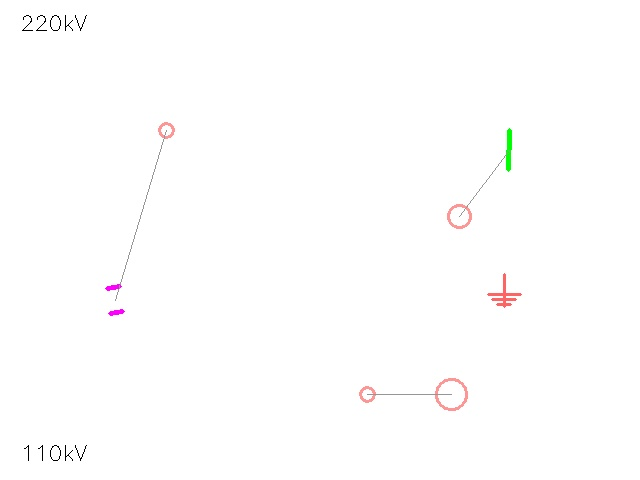busbar: (485, 126, 533, 174)
capacitor: (94, 279, 136, 321)
current_transformer: (437, 194, 481, 238)
disconnect_switch: (352, 379, 382, 409)
ground: (488, 274, 520, 306)
reactor: (151, 115, 181, 145)
voltage_transformer: (420, 363, 482, 425)
